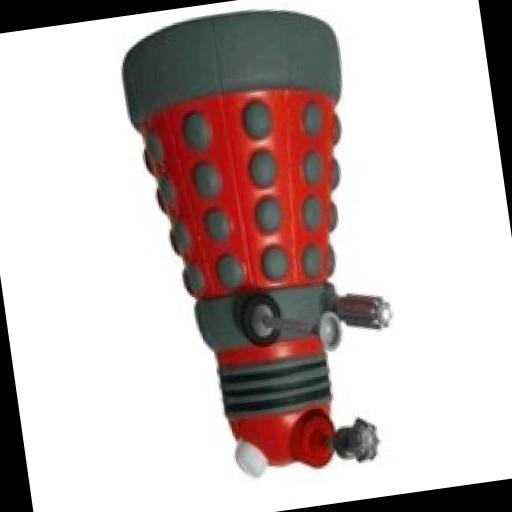dalek: (100, 0, 415, 499)
